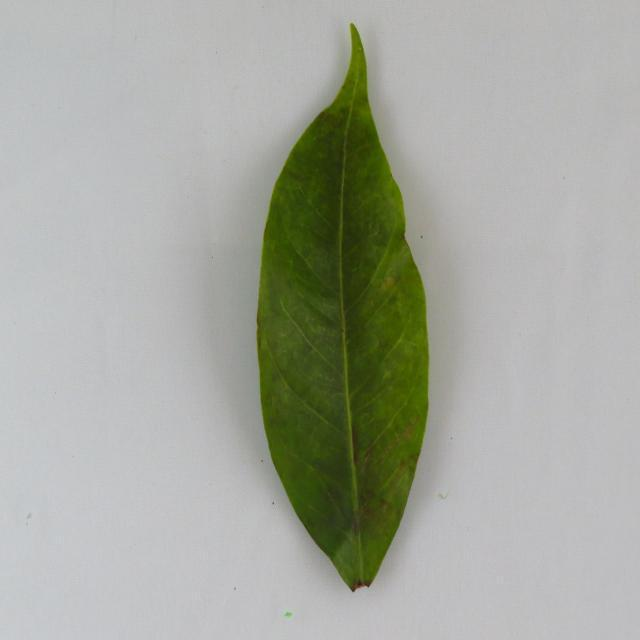DeficienciaNutricional-Magnesio: (258, 25, 429, 590)
